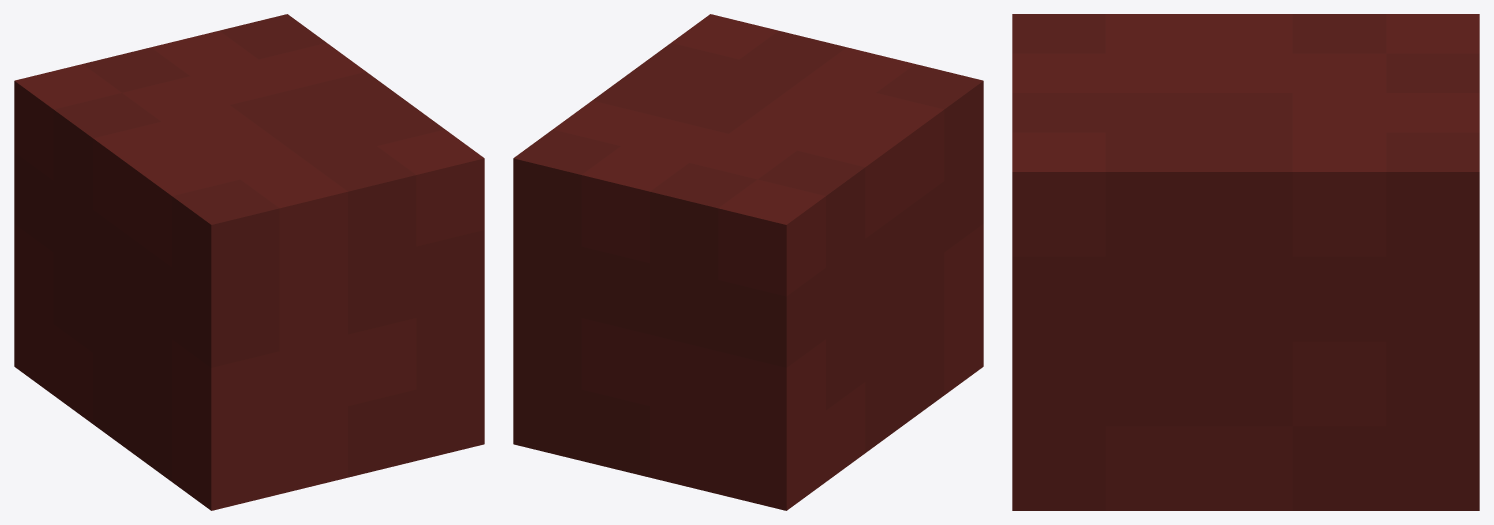
The model's file is tavern-15-roof_redflatsq5px.obj.
The picture shows the model from 3 angles, left to right: view 1: azimuth 30°, elevation 25°; view 2: azimuth 150°, elevation 25°; view 3: azimuth 270°, elevation 25°; orthographic projection. The views are drawn at different scales.
Visible parts, largest first — view 1: roof_redflatsq5px; view 2: roof_redflatsq5px; view 3: roof_redflatsq5px.
Boxes of the visible parts, x1,y1,x2,y2 form: roof_redflatsq5px: [14, 14, 484, 510]; roof_redflatsq5px: [513, 14, 983, 510]; roof_redflatsq5px: [1012, 14, 1479, 510].
Size of the model in its own units: 0.4 by 0.4 by 0.5.
1 material, 1 textured.
